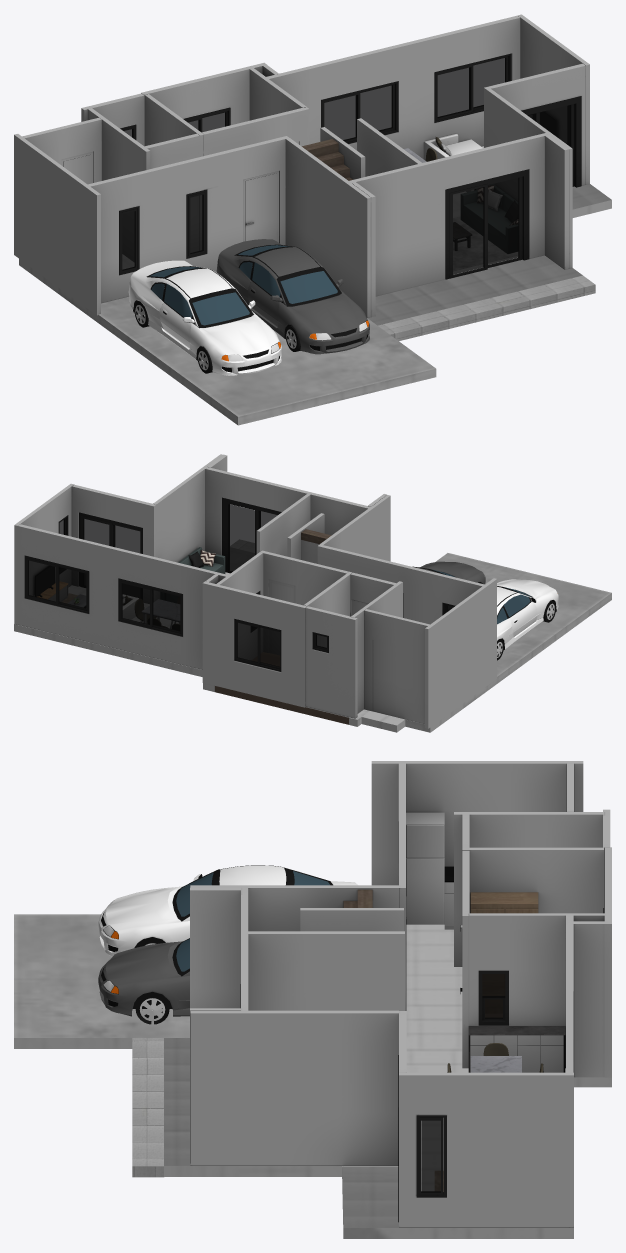
The model's file is Room_01.gltf.
3 renders of one model, top to bottom at view 1: azimuth 30°, elevation 25°; view 2: azimuth 150°, elevation 25°; view 3: azimuth 270°, elevation 25°, orthographic. The views are drawn at different scales.
Parts seen in each view (by area): view 1: wall39, floor1, glass7, Car_1.001, Car_1, Black_mat, stair, White_mat, Sofa_Blue, carped12, stairs4_stairs4, Sofa_Cream; view 2: wall39, floor1, glass7, Black_mat, White_mat, Car_1.001, Car_1, Sofa_Blue, top_table.001; view 3: wall39, floor1, Car_1.001, Car_1, stair, refrigerator, White_mat, Black_mat, glass7, closet, table5, top_table.001.
Boxes of the visible parts, x1,y1,x2,y2 form: wall39: (14, 14, 589, 317); floor1: (19, 146, 611, 425); glass7: (122, 58, 570, 274); Car_1.001: (128, 260, 281, 375); Car_1: (216, 239, 369, 354); Black_mat: (119, 53, 581, 279); stair: (378, 275, 595, 340); White_mat: (61, 141, 502, 252); Sofa_Blue: (461, 184, 517, 253); carped12: (453, 217, 517, 270); stairs4_stairs4: (302, 139, 352, 180); Sofa_Cream: (424, 134, 482, 191); wall39: (14, 454, 496, 728); floor1: (14, 547, 611, 732); glass7: (28, 504, 453, 666); Black_mat: (24, 497, 455, 671); White_mat: (48, 579, 397, 717); Car_1.001: (497, 579, 558, 660); Car_1: (412, 561, 485, 610); Sofa_Blue: (160, 547, 225, 602); top_table.001: (142, 599, 179, 621); wall39: (190, 761, 611, 1227); floor1: (14, 914, 611, 1238); Car_1.001: (98, 865, 357, 956); Car_1: (98, 938, 189, 1024); stair: (132, 1038, 163, 1177); refrigerator: (406, 812, 444, 924); White_mat: (406, 882, 563, 1072); Black_mat: (240, 821, 604, 1222); glass7: (421, 974, 505, 1192); closet: (470, 892, 538, 1013); table5: (468, 1026, 565, 1035); top_table.001: (470, 1056, 521, 1072).
Size of the model in its own units: 12.29 by 2.99 by 9.88.
Materials: 34 (20 with a texture image).
